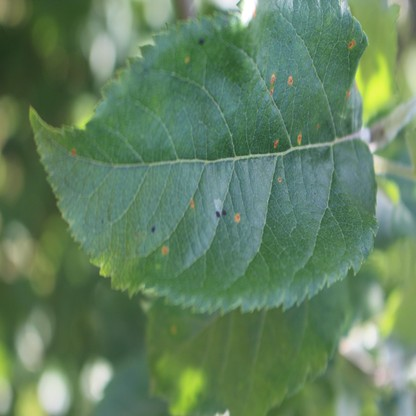rust: (269, 75, 276, 95), (189, 196, 195, 210), (162, 244, 169, 255), (297, 131, 302, 145), (348, 39, 355, 48), (70, 147, 76, 156), (234, 214, 240, 223), (346, 90, 351, 100), (273, 139, 278, 148), (288, 76, 292, 85), (316, 121, 320, 130), (252, 11, 256, 18), (185, 56, 190, 61), (278, 177, 283, 182)
